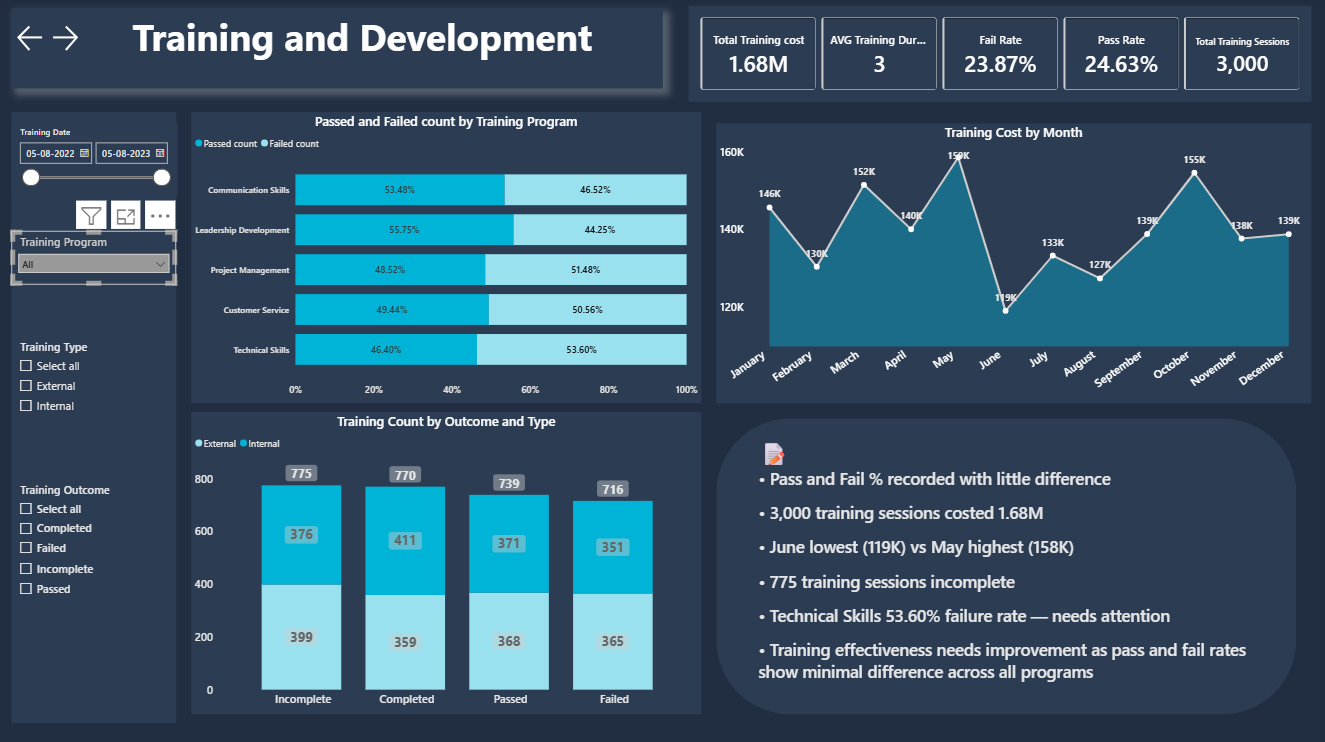

This screenshot's page, from the dashboard's own definition file:
{"tool":"powerbi","page":{"name":"Training & Development","canvas":[1920,1080],"ordinal":1},"visuals":[{"type":"cardVisual","fields":{"Data":["Measures (2).Total Training cost","Measures (2).AVG Training Duration Days","Measures (2).Failed%","Measures (2).Pass %","Measures (2).Total Training Sessions"]},"box":[997.1,12.7,901.2,139.3],"z":0},{"type":"textbox","box":[16.3,16.3,942.8,115.8],"z":1000},{"type":"lineChart","title":"Training Cost by Month","fields":{"Y":["Sum(HR data.Training Cost)"],"Category":["HR data.Training Date.Variation.Date Hierarchy.Month"]},"box":[1036.9,182.8,861.4,405.4],"z":2000},{"type":"hundredPercentStackedBarChart","title":"Passed  and Failed count by Training Program","fields":{"Category":["HR data.Training Program Name"],"Y":["Measures (2).Passed count","Measures (2).Failed count"]},"box":[276.9,166.5,738.3,421.7],"z":3000},{"type":"columnChart","title":"Training Count by Outcome and Type","fields":{"Category":["HR data.Training Outcome"],"Y":["Measures (2).Total Employees"],"Series":["HR data.Training Type"]},"box":[276.9,600.8,738.3,437.9],"z":4000},{"type":"shape","box":[16.3,166.5,238.9,884.9],"z":5000},{"type":"slicer","fields":{"Values":["HR data.Training Date"]},"box":[16.3,182.8,238.9,105],"z":6000},{"type":"slicer","fields":{"Values":["HR data.Trainer"]},"box":[16.3,338.4,238.9,77.8],"z":7000},{"type":"slicer","fields":{"Values":["HR data.Training Type"]},"box":[16.3,490.4,238.9,143],"z":8000},{"type":"slicer","fields":{"Values":["HR data.Training Outcome"]},"box":[16.3,696.7,181,184.6],"z":9000},{"type":"shape","box":[1036.9,609.9,839.7,428.9],"z":10000},{"type":"textbox","box":[1093,633.4,727.5,385.5],"z":11000},{"type":"actionButton","box":[16.3,36.2,54.3,47.1],"z":11001},{"type":"actionButton","box":[70.6,36.2,65.1,47.1],"z":11002}]}

Visuals, with their boxes in screenshot pixels (x1, y1, x2, y2), scaled from the page's 1920x1080 canvas onto the 1325x742 screenshot:
cardVisual - Measures (2).Total Training cost x Measures (2).AVG Training Duration Days: bbox=(688, 9, 1310, 104)
textbox: bbox=(11, 11, 662, 91)
"Training Cost by Month" lineChart: bbox=(716, 126, 1310, 404)
"Passed  and Failed count by Training Program" hundredPercentStackedBarChart: bbox=(191, 114, 701, 404)
"Training Count by Outcome and Type" columnChart: bbox=(191, 413, 701, 714)
shape: bbox=(11, 114, 176, 722)
slicer - HR data.Training Date: bbox=(11, 126, 176, 198)
slicer - HR data.Trainer: bbox=(11, 232, 176, 286)
slicer - HR data.Training Type: bbox=(11, 337, 176, 435)
slicer - HR data.Training Outcome: bbox=(11, 479, 136, 605)
shape: bbox=(716, 419, 1295, 714)
textbox: bbox=(754, 435, 1256, 700)
actionButton: bbox=(11, 25, 49, 57)
actionButton: bbox=(49, 25, 94, 57)
